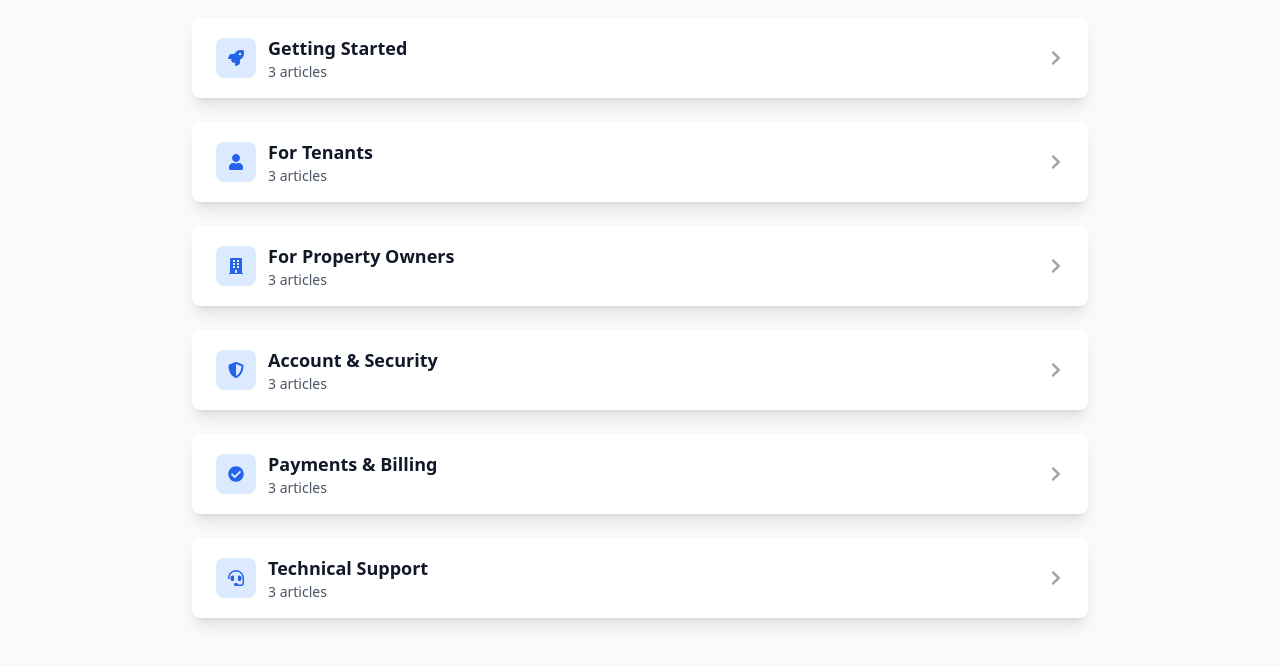
Test: HelpPage › displays security-specific help questions
(page scrolled)
Click the heading "Account & Security": click(353, 360) [268,346,438,374]
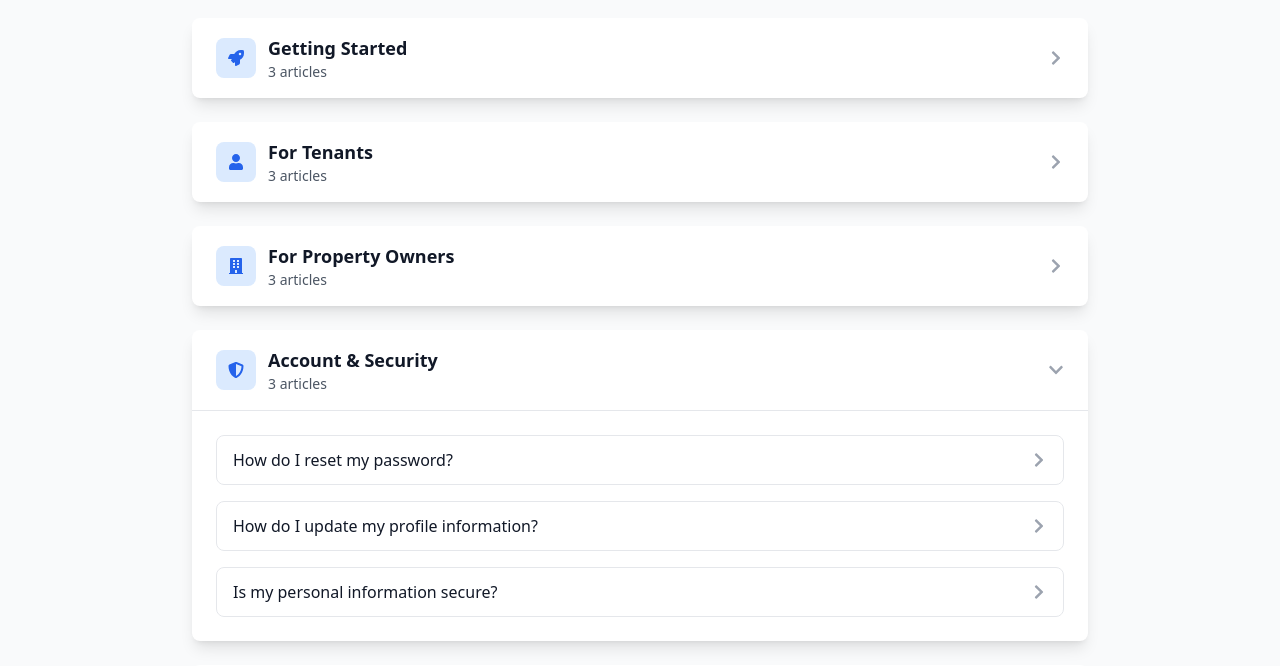
Now the text "How do I reset my password?" is shown, box [233,448,453,472]
Now the text "How do I update my profile information?" is shown, box [233,514,538,538]
Now the text "Is my personal information secure?" is shown, box [233,580,497,604]
